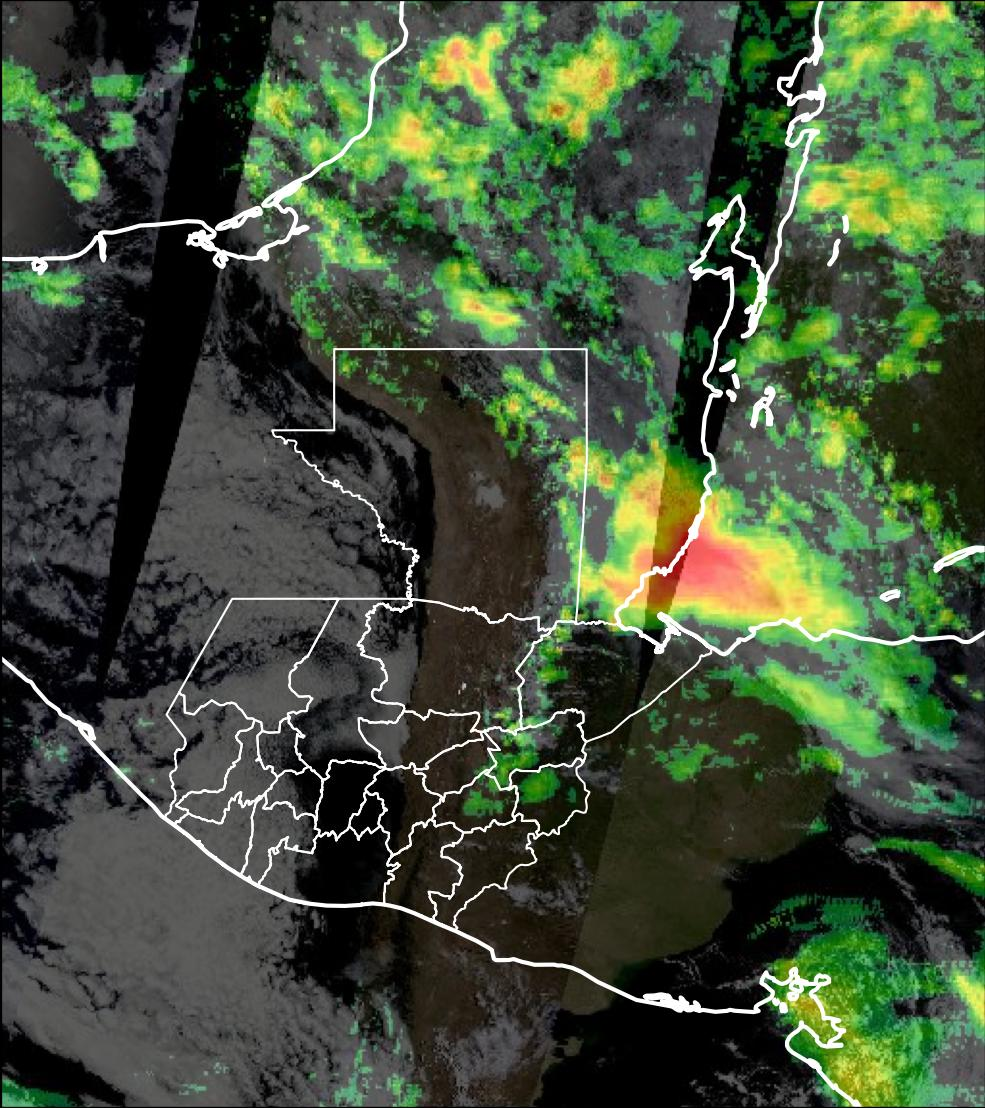precipitacion: (610, 530, 790, 623), (424, 35, 503, 103)
